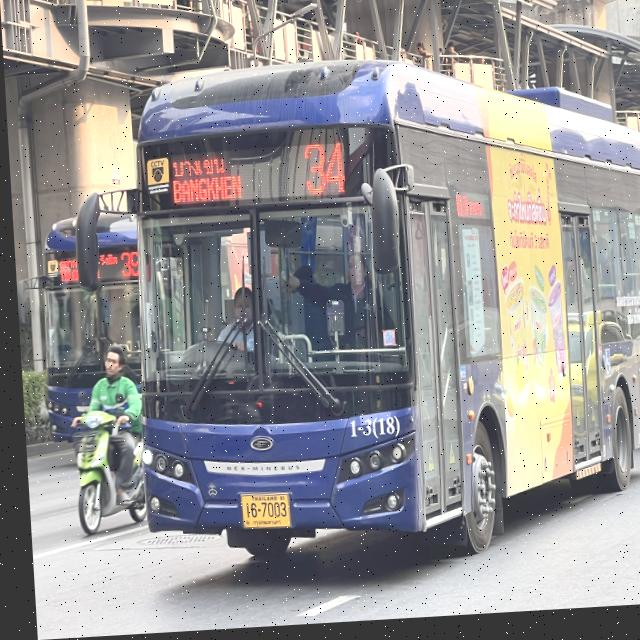Bus-Line-Number: (296, 133, 351, 208), (117, 249, 138, 282)
Destination-Sign-Normal: (163, 149, 258, 215), (52, 253, 118, 285)
TSB-Bus: (109, 40, 640, 584), (26, 210, 152, 448)
